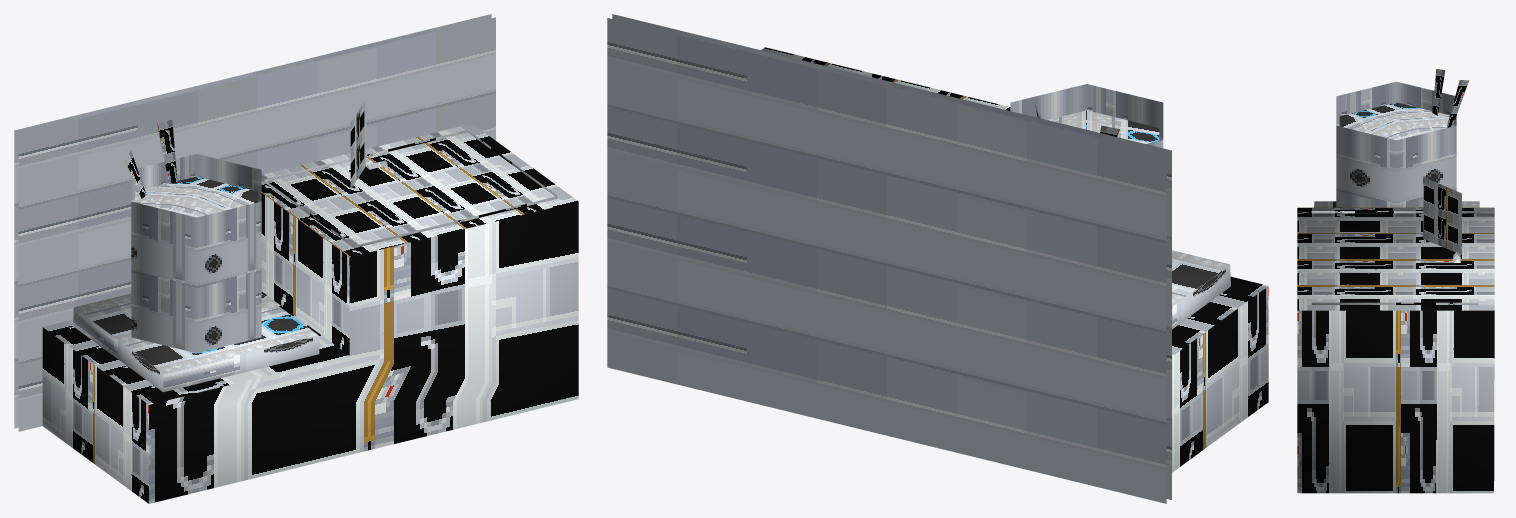
3 views of the same model, side by side, from view 1: azimuth 30°, elevation 25°; view 2: azimuth 150°, elevation 25°; view 3: azimuth 270°, elevation 25° (orthographic). The views are drawn at different scales.
Parts seen in each view (by area): view 1: 3779kg_sh1_02; view 2: 3779kg_sh1_02; view 3: 3779kg_sh1_02.
Boxes of the visible parts, box(x1,y1,x2,y2) form: 3779kg_sh1_02: box(14, 14, 578, 503); 3779kg_sh1_02: box(607, 14, 1268, 503); 3779kg_sh1_02: box(1297, 69, 1494, 493).
Size of the model in its own units: 1.89 by 1.13 by 0.7604.
Materials: 4 (4 with a texture image).
